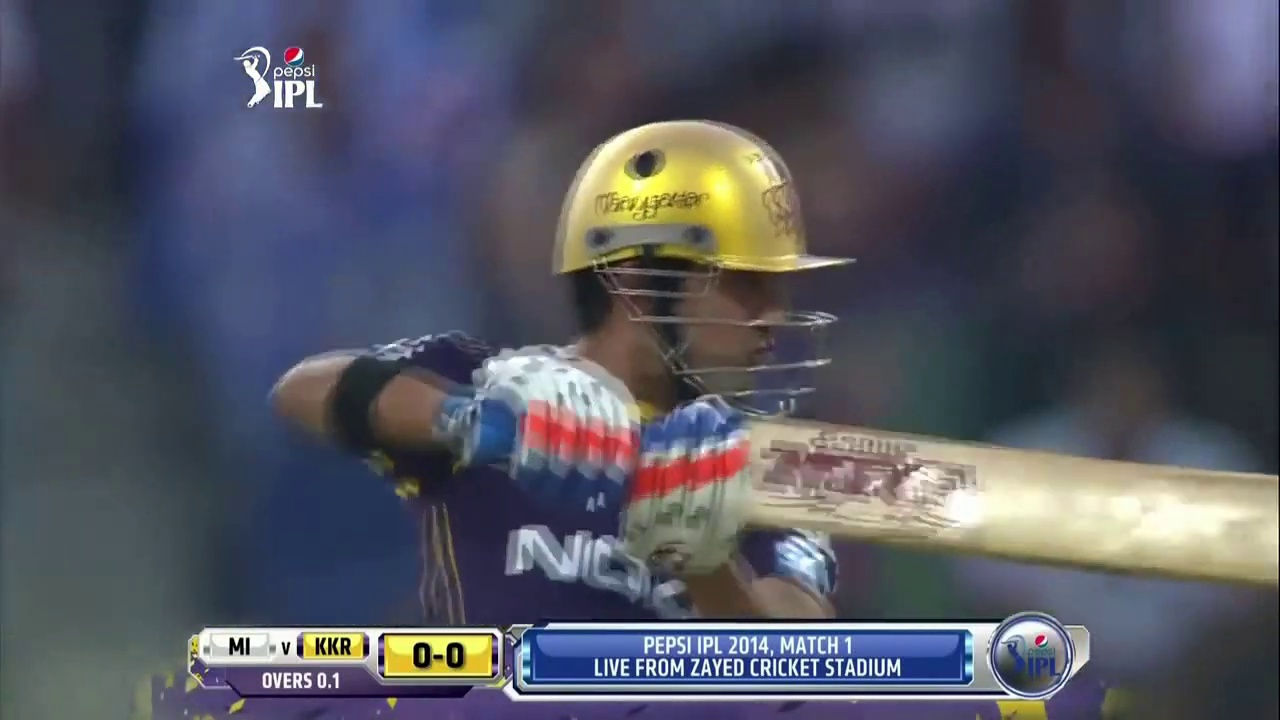bat: (757, 414, 1280, 590)
